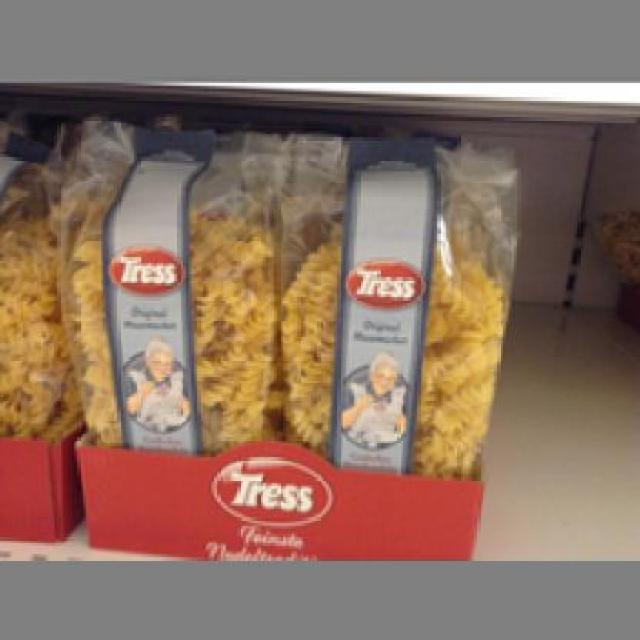Pasta: (274, 126, 517, 474), (52, 117, 274, 450)
